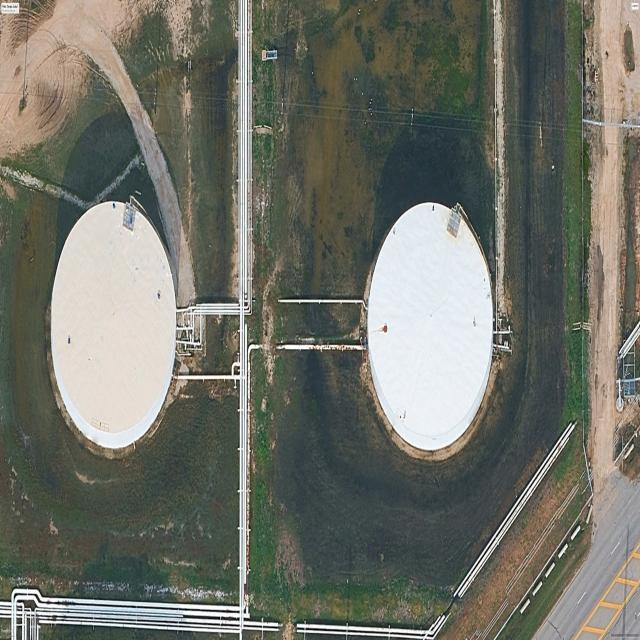Oil Rafinery: (367, 202, 493, 452), (50, 202, 177, 449)
